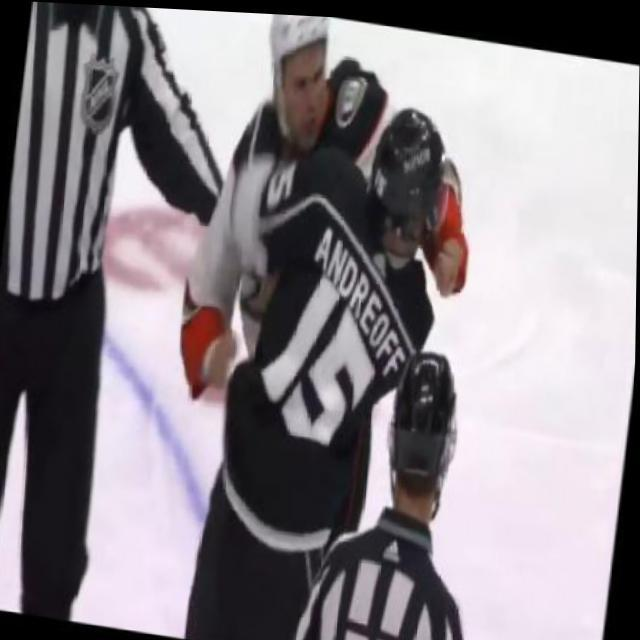fight: (152, 6, 493, 554)
